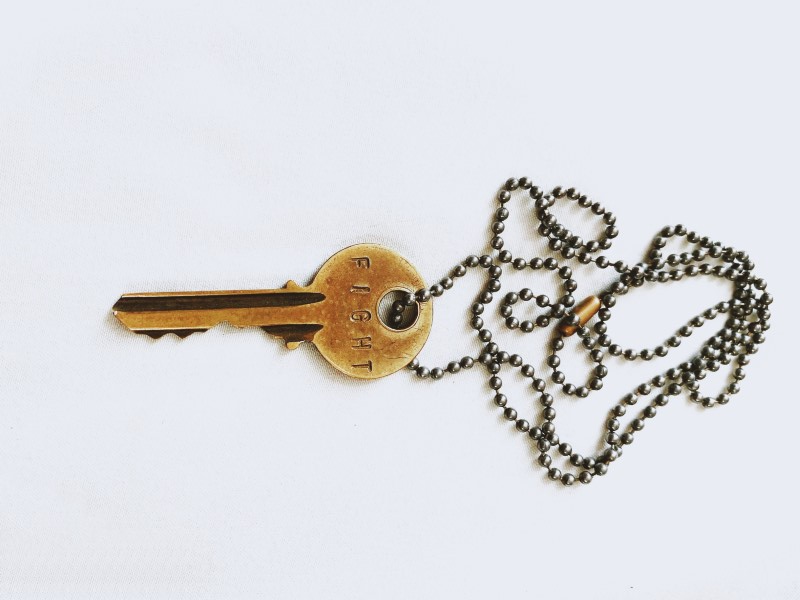key: (105, 243, 437, 386)
